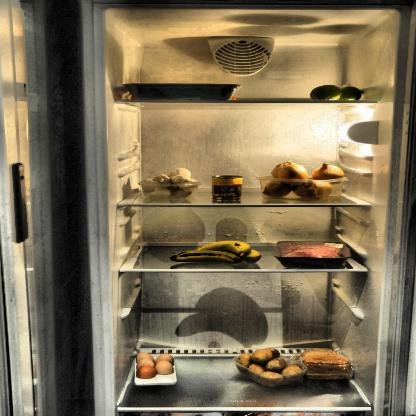banana: (169, 240, 262, 264)
corn: (210, 176, 245, 200)
eggs: (136, 351, 174, 385)
ground_beef: (273, 241, 351, 261)
lime: (311, 85, 365, 103)
mushrooms: (138, 166, 196, 200)
onion: (258, 161, 351, 203)
potato: (234, 350, 305, 384)
